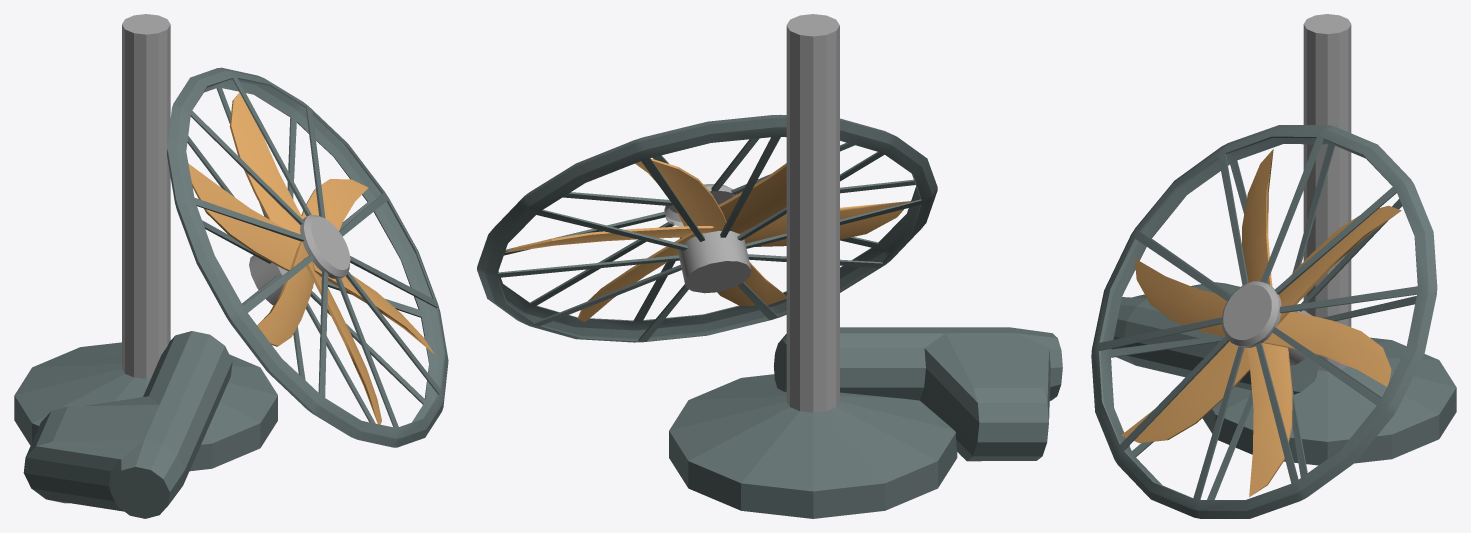
Rendered from fan_break.fbx.
3 views of the same model, side by side, from view 1: azimuth 30°, elevation 25°; view 2: azimuth 150°, elevation 25°; view 3: azimuth 270°, elevation 25° (orthographic). The views are drawn at different scales.
Parts seen in each view (by area): view 1: fan_break; view 2: fan_break; view 3: fan_break.
Boxes of the visible parts, x1,y1,x2,y2 form: fan_break: (14, 14, 448, 518); fan_break: (477, 14, 1062, 518); fan_break: (1091, 14, 1456, 518).
Size of the model in its own units: 238 by 202 by 170.
